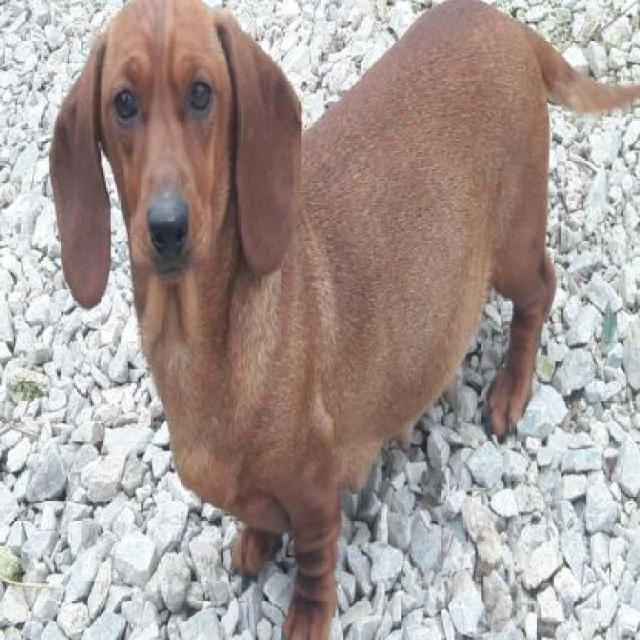Dog: (47, 4, 638, 638)
